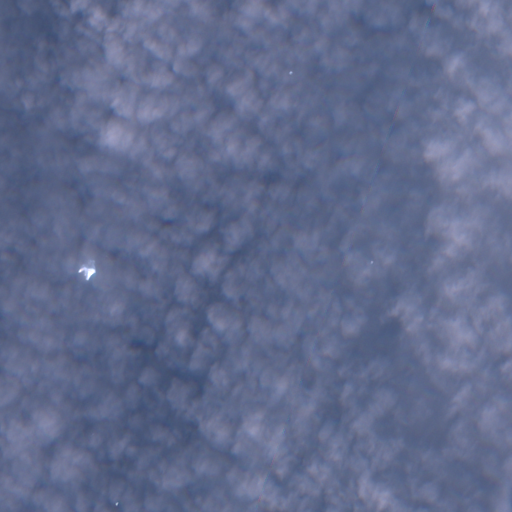Iceberg: (78, 260, 95, 279), (289, 71, 292, 74), (115, 502, 118, 505), (371, 261, 372, 263)
